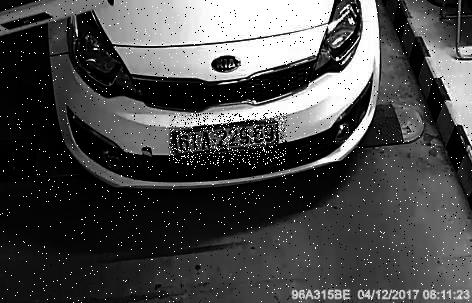License-plate: (171, 114, 289, 166)
